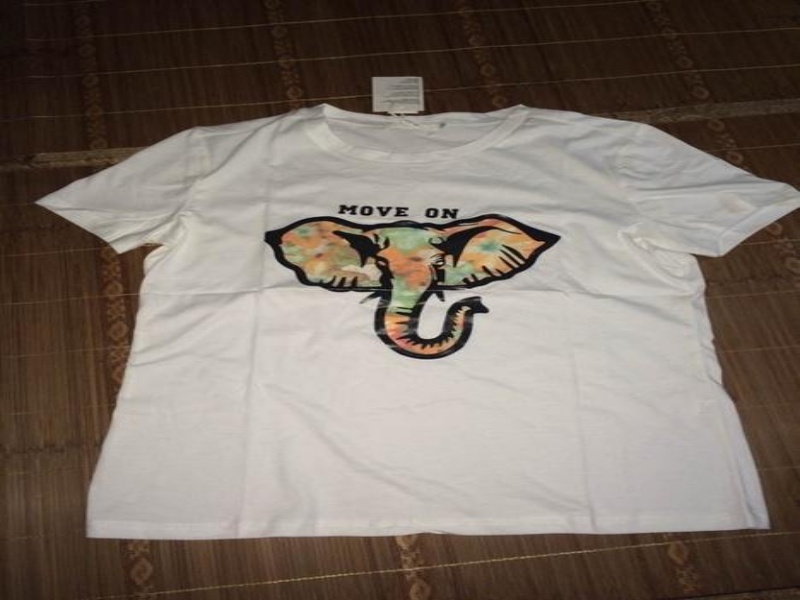short_sleeved_shirt: (26, 95, 798, 548)
